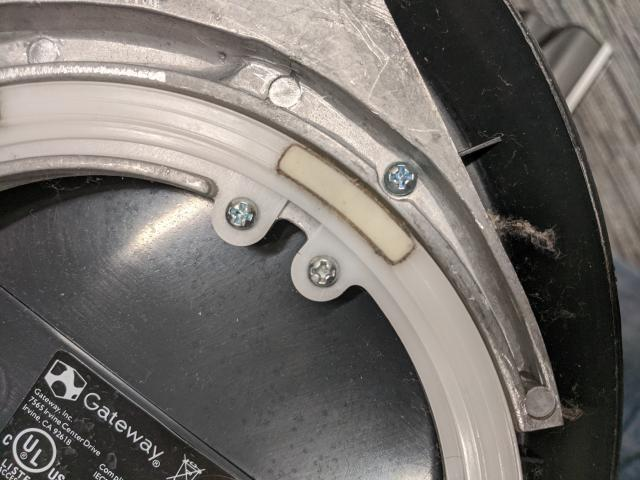CRS: (222, 191, 260, 232), (378, 159, 418, 197), (307, 254, 338, 287)
